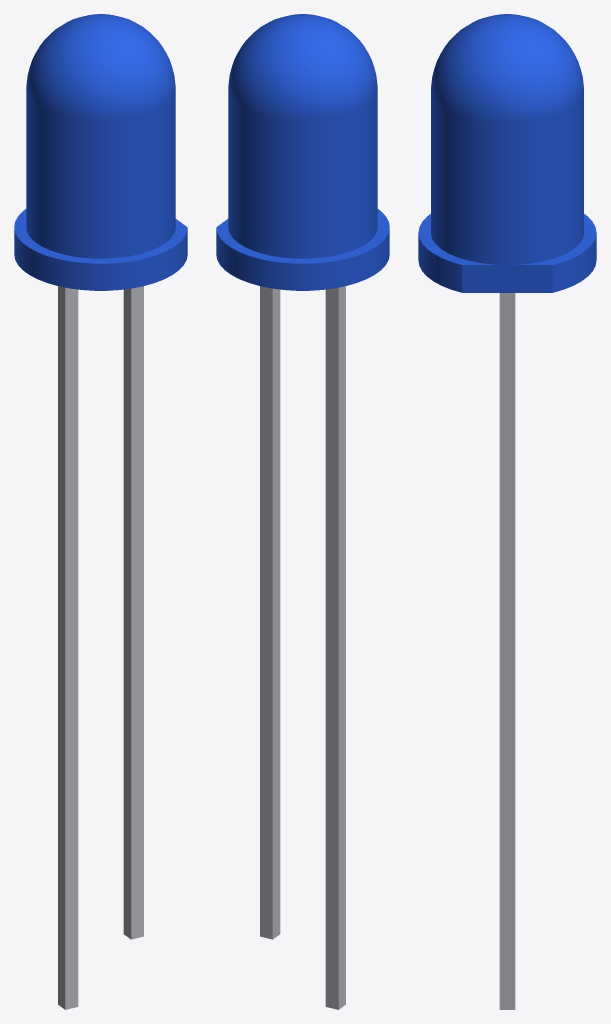
Rendered from led-5mm-blue.glb.
The picture shows the model from 3 angles, left to right: view 1: azimuth 30°, elevation 25°; view 2: azimuth 150°, elevation 25°; view 3: azimuth 270°, elevation 25°; orthographic projection. The views are drawn at different scales.
Parts seen in each view (by area): view 1: body, lead-1, lead-2; view 2: body, lead-1, lead-2; view 3: body, lead-2.
Part boxes in pixels (x1,y1,x2,y2): body: (14, 14, 187, 290); lead-1: (58, 286, 78, 1009); lead-2: (123, 286, 143, 939); body: (216, 14, 389, 290); lead-1: (325, 286, 345, 1009); lead-2: (260, 286, 280, 939); body: (418, 14, 596, 292); lead-2: (499, 293, 515, 987).
Size of the model in its own units: 0.00539 by 0.036 by 0.0058.
